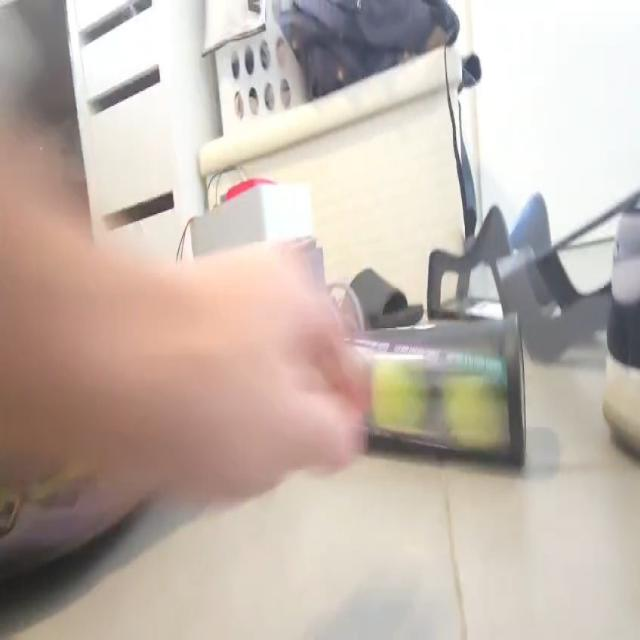Robot: (190, 175, 367, 337)
